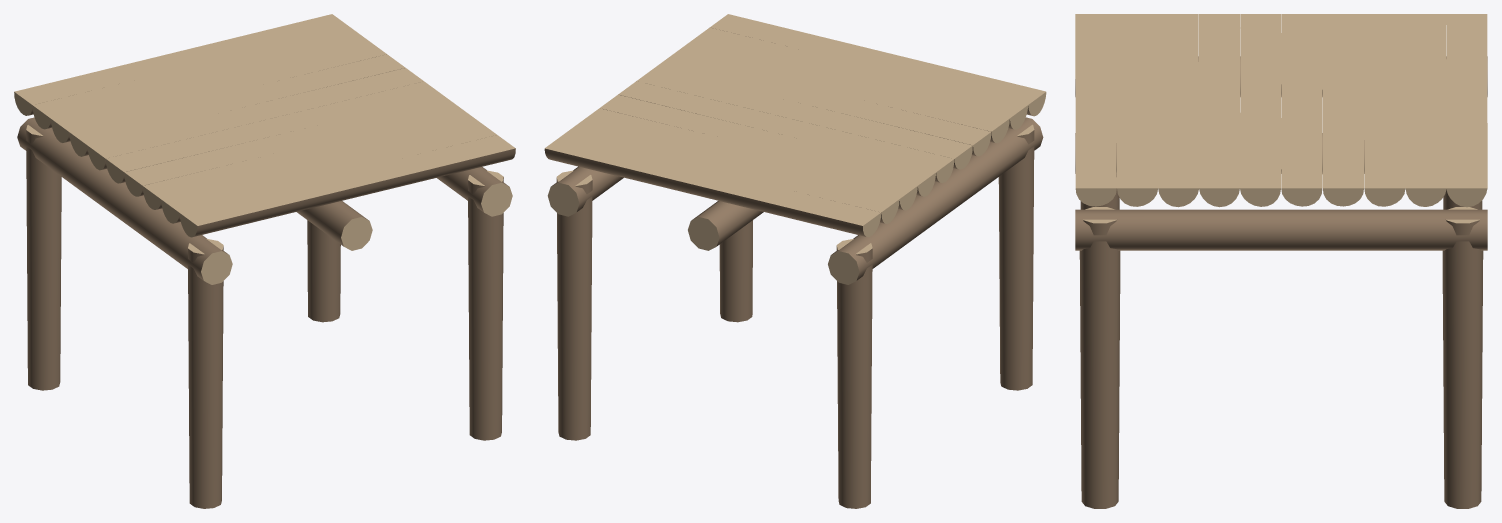
File: log_foundation.glb
The picture shows the model from 3 angles, left to right: view 1: azimuth 30°, elevation 25°; view 2: azimuth 150°, elevation 25°; view 3: azimuth 270°, elevation 25°; orthographic projection. The views are drawn at different scales.
Parts seen in each view (by area): view 1: Foundation; view 2: Foundation; view 3: Foundation.
Boxes of the visible parts, x1=… form: Foundation: x1=14, y1=14, x2=515, y2=508; Foundation: x1=544, y1=14, x2=1046, y2=508; Foundation: x1=1075, y1=14, x2=1487, y2=508.
Bounding box in the file's own units: 3 × 2.6 × 3.
